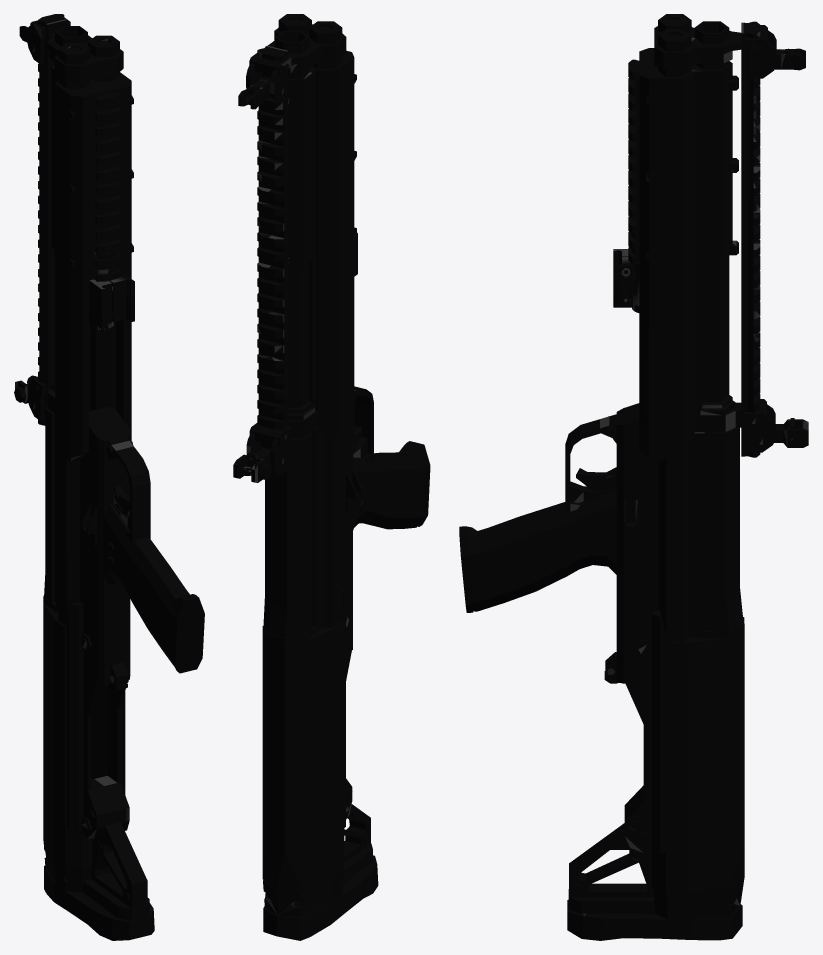
Rendered from KSG__Light_Pistol.fbx.
3 renders of one model, left to right at view 1: azimuth 30°, elevation 25°; view 2: azimuth 150°, elevation 25°; view 3: azimuth 270°, elevation 25°, orthographic. The views are drawn at different scales.
Parts seen in each view (by area): view 1: asset_KSG.001; view 2: asset_KSG.001; view 3: asset_KSG.001.
Boxes of the visible parts, x1=… form: asset_KSG.001: x1=14, y1=14, x2=204, y2=940; asset_KSG.001: x1=233, y1=14, x2=430, y2=940; asset_KSG.001: x1=459, y1=14, x2=808, y2=940.
Size of the model in its own units: 0.03 by 0.396 by 0.139.
